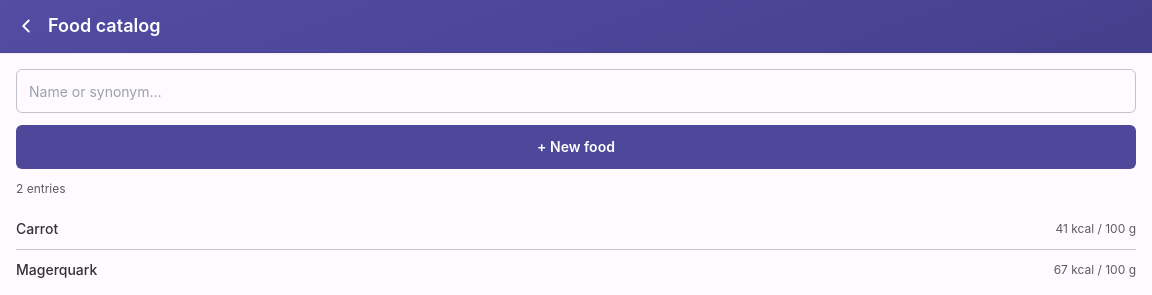
Test: CatalogManagerScreen — English locale › still filters by the German name
The width and height of the screenshot is (1152, 295).
expect the text "Carrot" is shown: met, box [16,220,58,237]
Type "möhre" into the search field.
click(576, 91); type("möhre")  # box [16,69,1136,113]
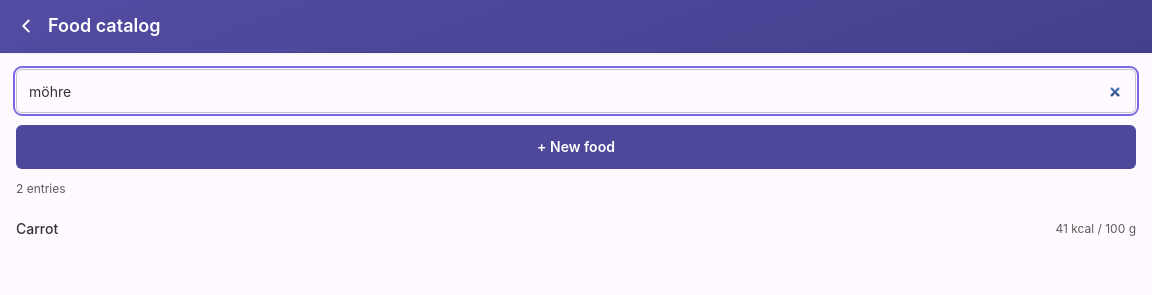
expect the text "Carrot" is shown: met, box [16,220,58,237]
expect the button "Magerquark" is gone: met
